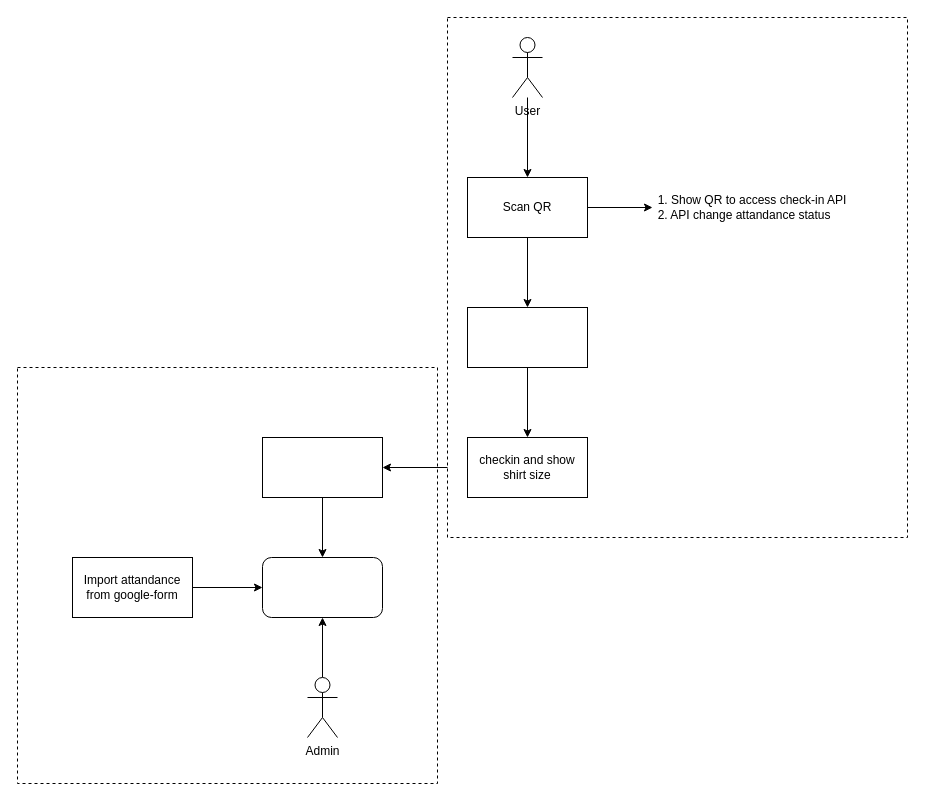
Image size: 925x801. Some labels were removed from this diagram. Here are the shapes that lost their labels. From the top down, the centre of each, then its label:
[527,337]: Show phone_number input
[322,467]: Update attandance status
[322,587]: Dashboard attandance
